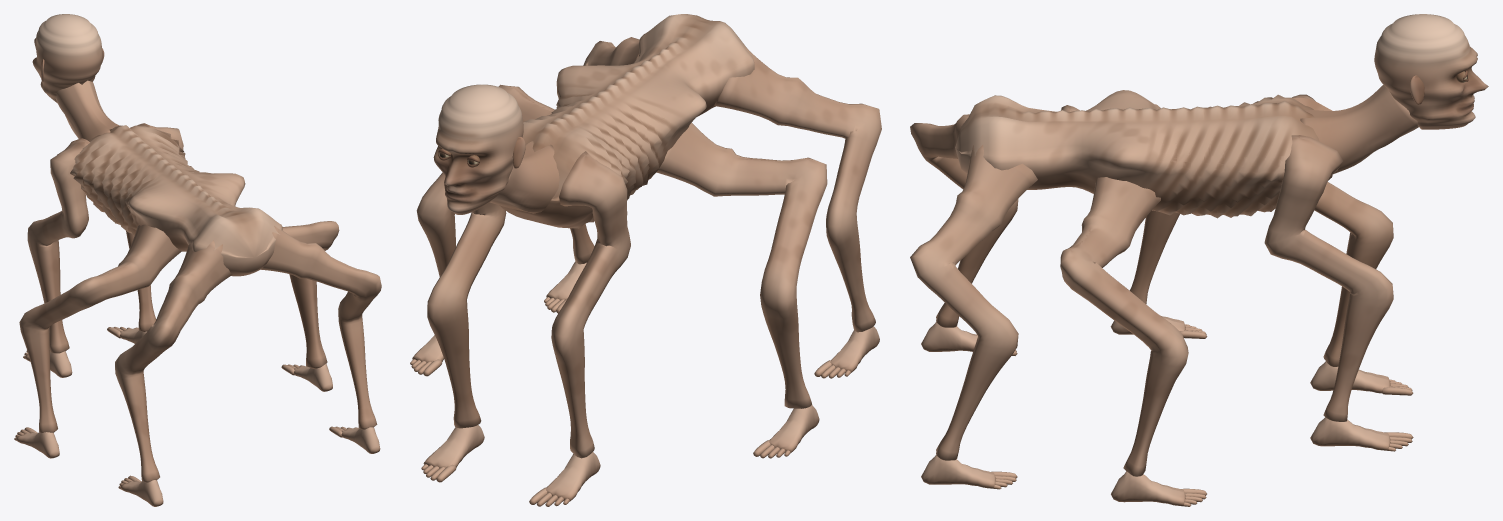
The picture shows the model from 3 angles, left to right: view 1: azimuth 30°, elevation 25°; view 2: azimuth 150°, elevation 25°; view 3: azimuth 270°, elevation 25°; orthographic projection. The views are drawn at different scales.
Bounding box in the file's own units: 1.51 × 1.55 × 2.03.
Materials: 1 (1 with a texture image).
